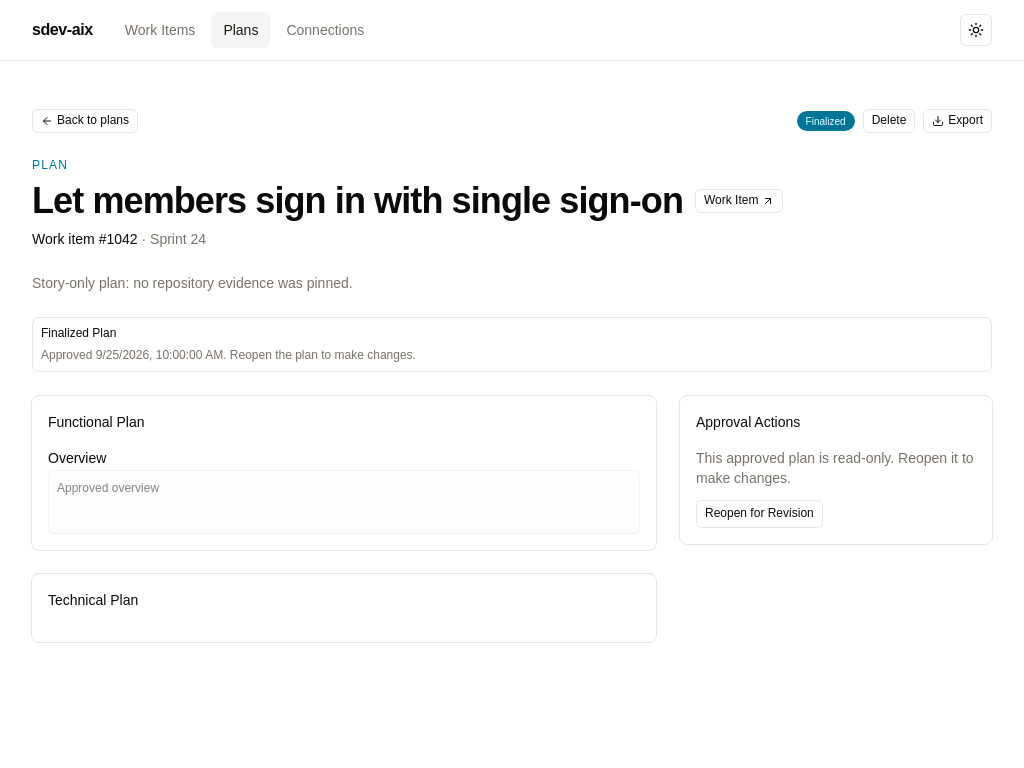
Test: plans › prevents editing a finalized plan and reopens through the workflow endpoint
This screenshot has width=1024, height=768.
Expected: the text box labelled "Overview" is disabled, x1=48 y1=470 x2=640 y2=534
Expected: the button "Save" is not shown
Click the button "Reopen for Revision" at (759, 514), box x1=696 y1=500 x2=823 y2=528
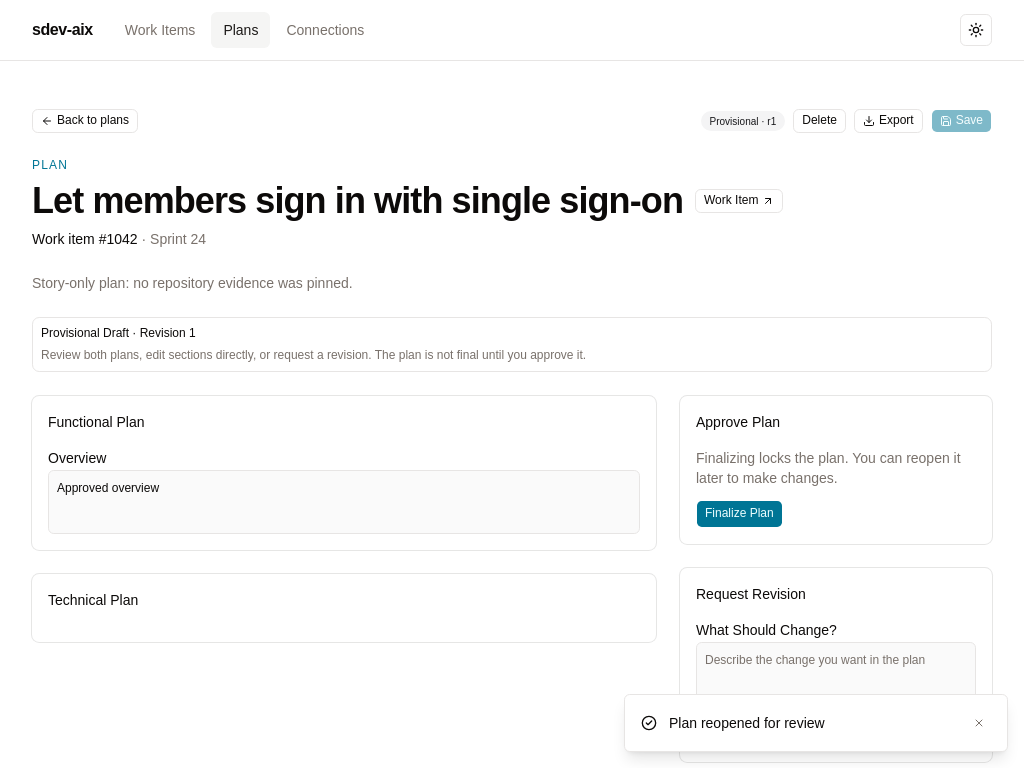
Now the text "Provisional · r1" is shown, box x1=701 y1=111 x2=785 y2=131
Now the text box labelled "Overview" is enabled, box x1=48 y1=470 x2=640 y2=534
